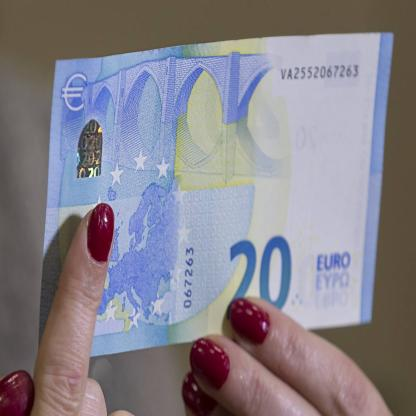billete: (36, 30, 396, 358)
